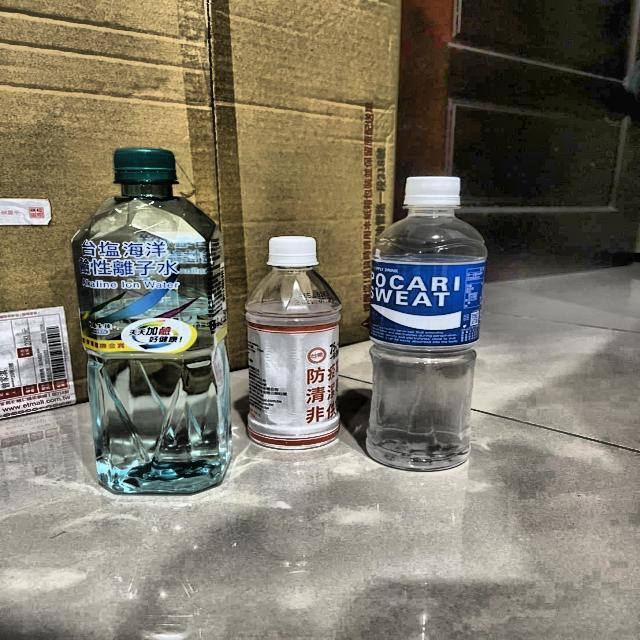plastic bottle: (71, 148, 230, 494), (366, 176, 488, 471), (245, 236, 341, 450)
